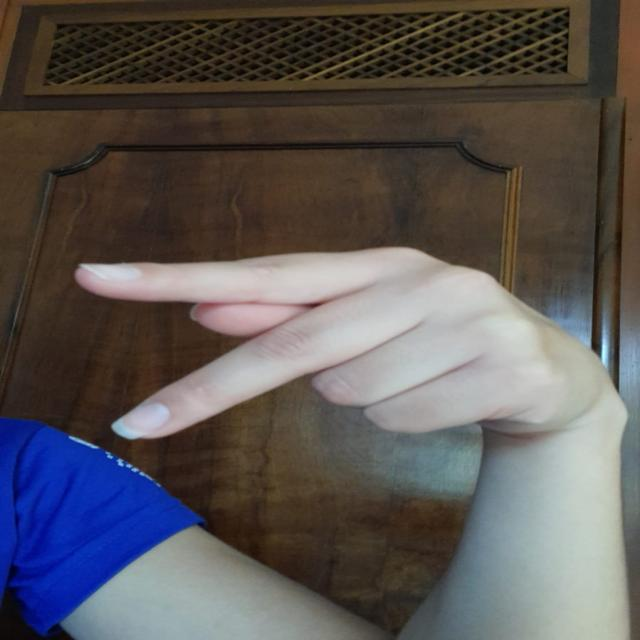P: (50, 242, 640, 466)
